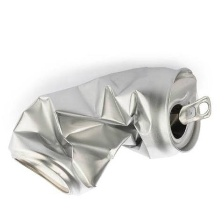can: (3, 63, 217, 198)
